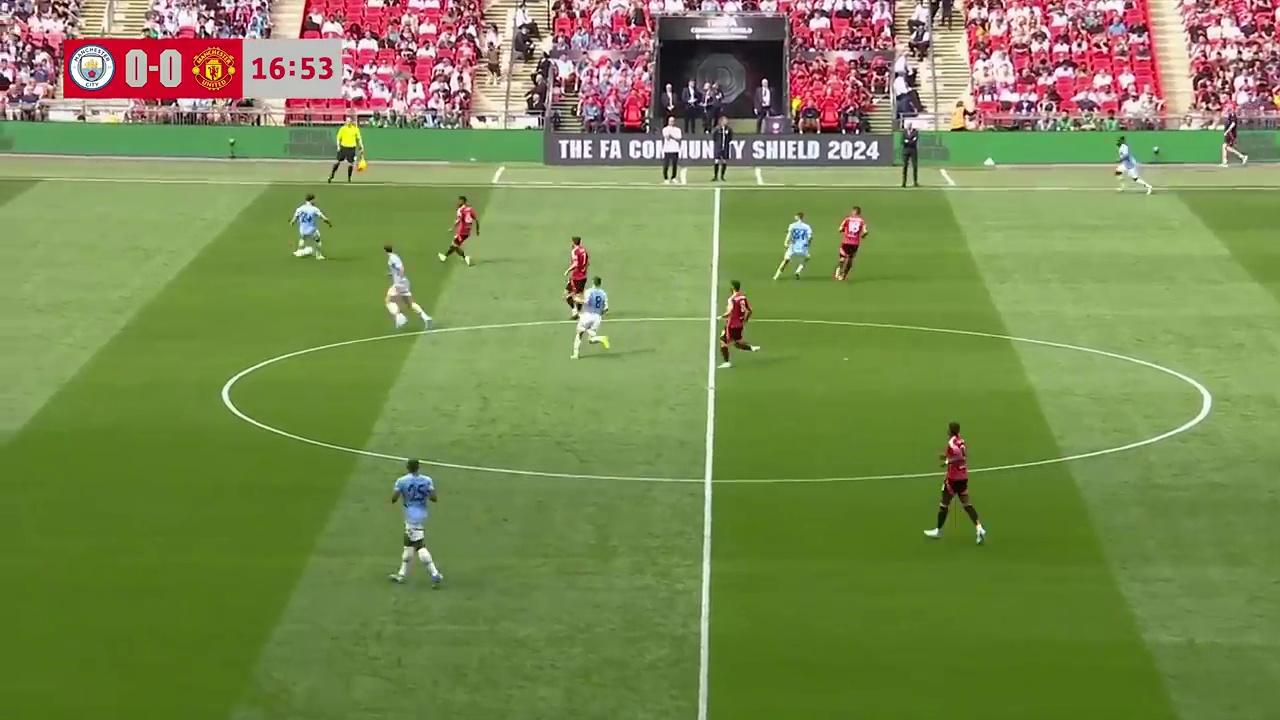ball: (296, 243, 313, 258)
player: (924, 421, 987, 544), (388, 458, 442, 587), (383, 244, 430, 331), (569, 274, 610, 360), (719, 281, 758, 365), (288, 193, 331, 260), (774, 211, 812, 282), (441, 195, 480, 264), (1113, 137, 1153, 200), (835, 206, 867, 283), (563, 235, 589, 312), (1224, 105, 1245, 166)
referee: (326, 113, 368, 184)
